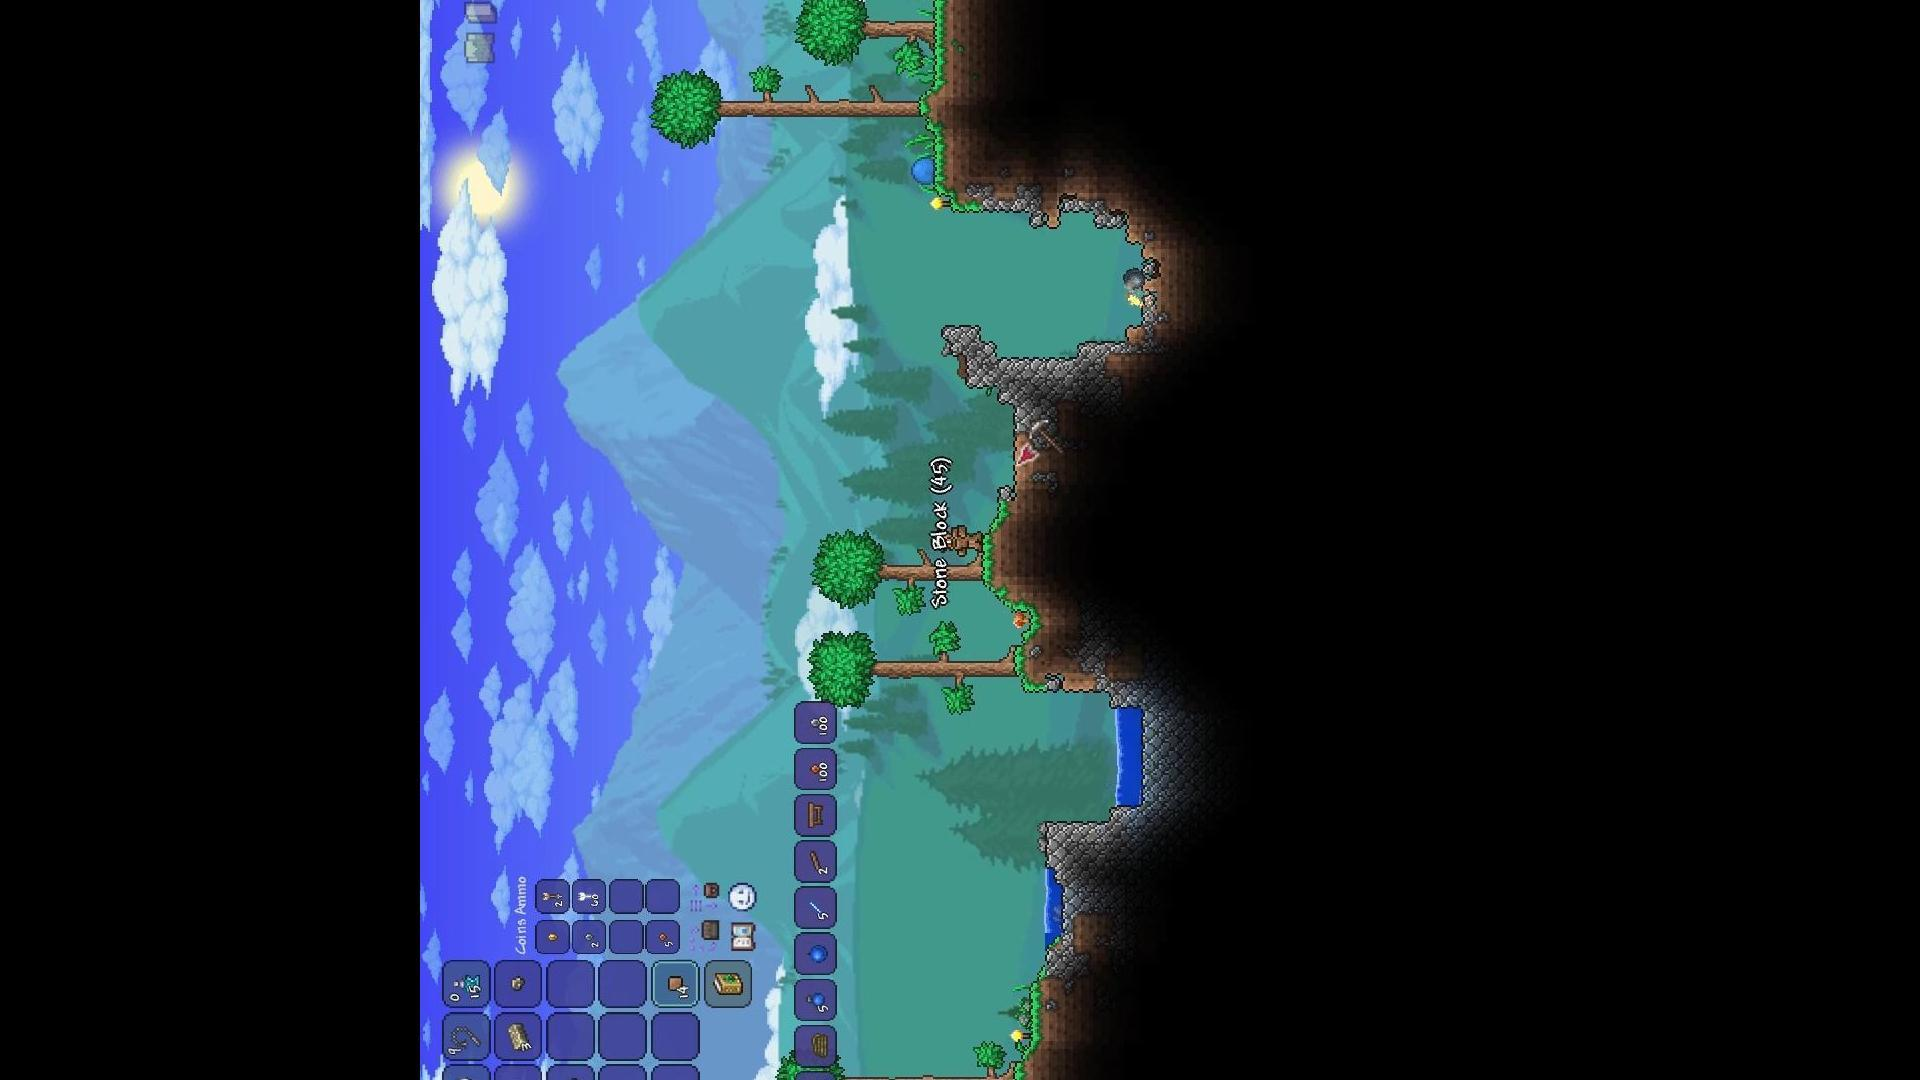slime: (899, 153, 935, 191)
